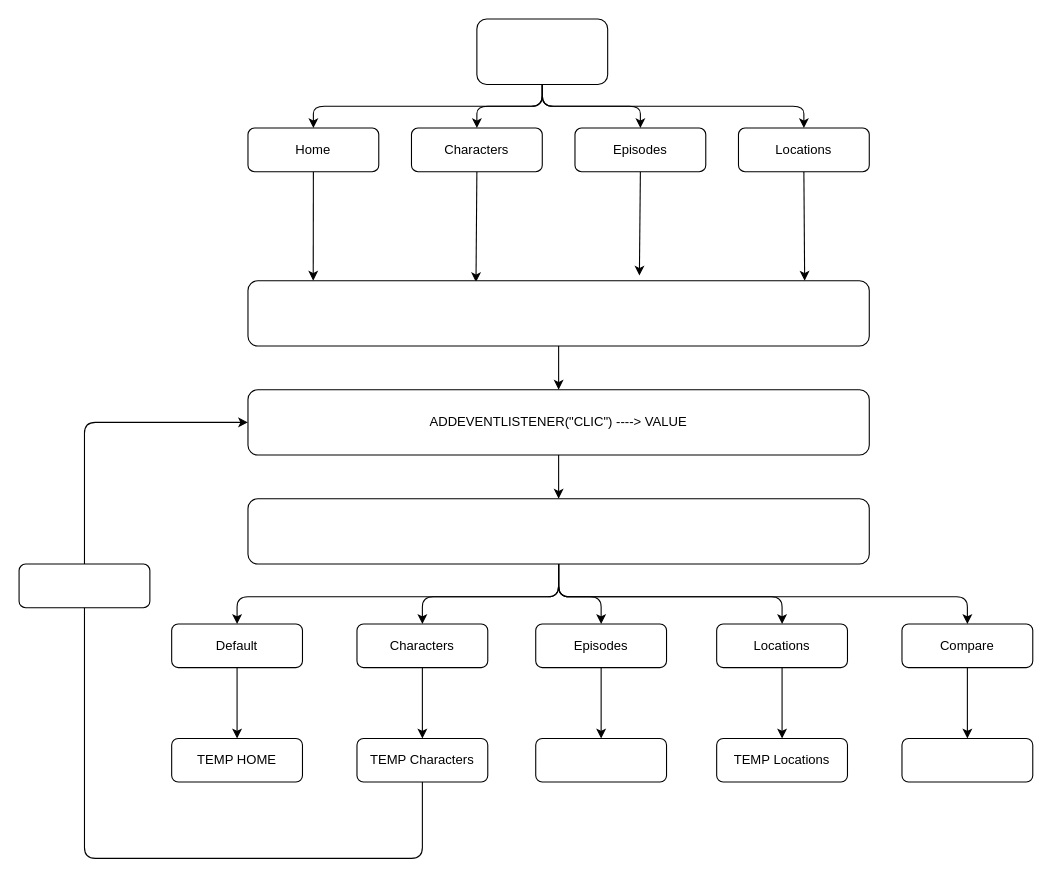
Image size: 1052x886. Some labels were removed from this diagram. Here are the shapes that lost their labels. From the top down, the box of each, then its label:
(476, 18, 608, 84): NavBar
(247, 280, 869, 346): BUCLE FOR SE MAPEAN LOS BOTONES
(247, 498, 869, 564): SWITCH
(18, 563, 150, 608): BUTON ADD CHARACTER
(535, 737, 667, 782): TEMP Episode
(901, 737, 1033, 782): TEMP Compare
